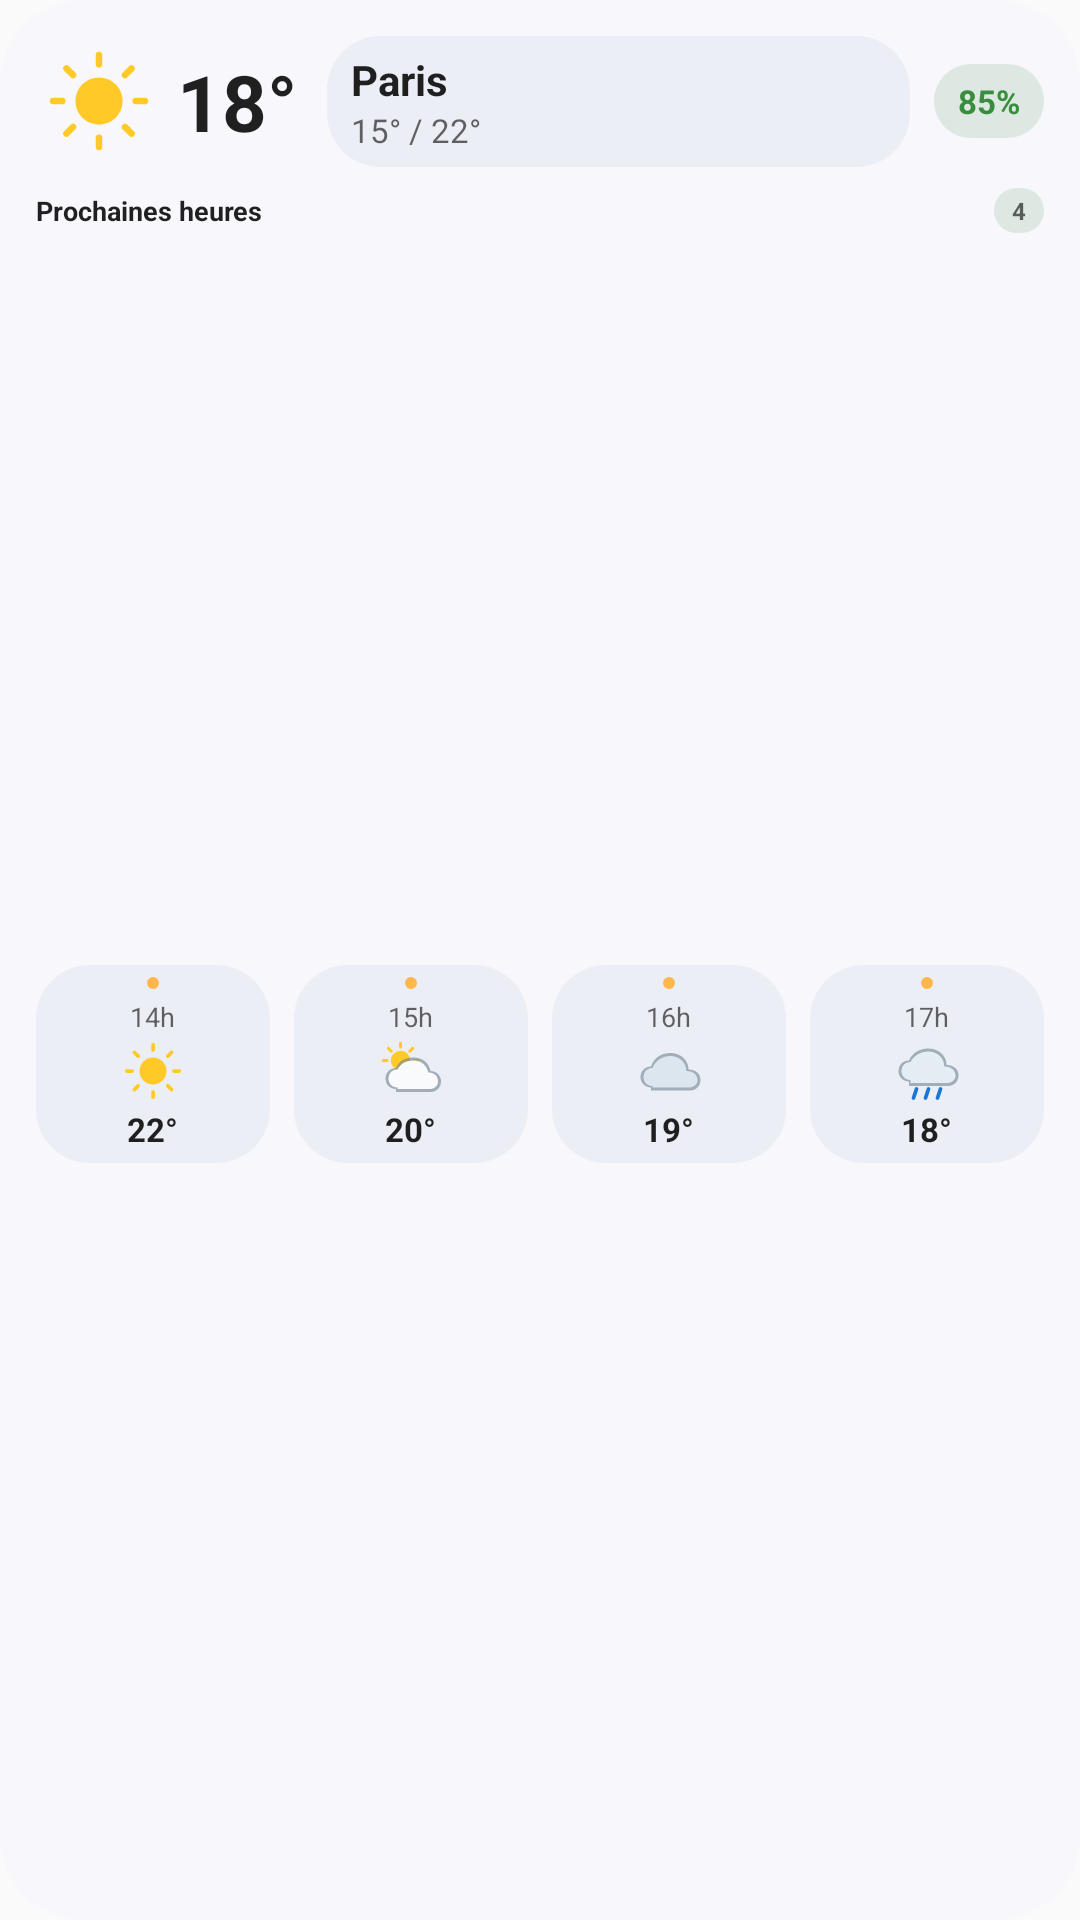

Icon bounding boxes for this 1080px×1920px phone screenshot, format [x1, y1, x2, y2]:
widget weather cloud: [640, 1053, 701, 1091]
widget weather partly: [381, 1041, 441, 1092]
widget weather rain: [898, 1048, 959, 1100]
widget weather sun: [49, 51, 149, 151], [125, 1043, 181, 1099]
